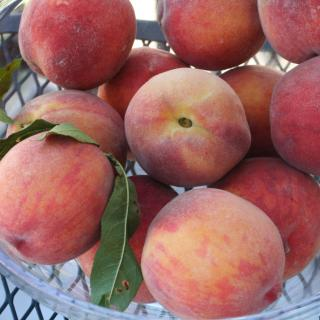Apple: (0, 0, 320, 320), (126, 66, 258, 186)
Peach: (0, 0, 320, 320)
